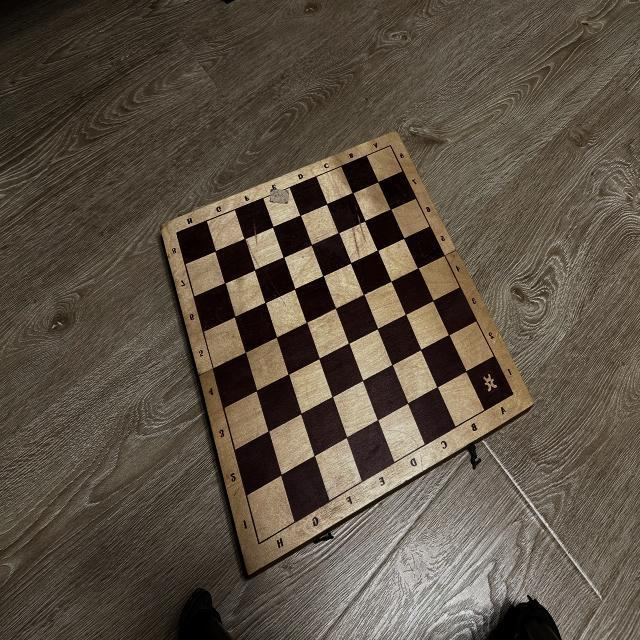chess-table-corners: (508, 386, 518, 401), (254, 538, 264, 548), (386, 140, 394, 152), (172, 228, 181, 238)
